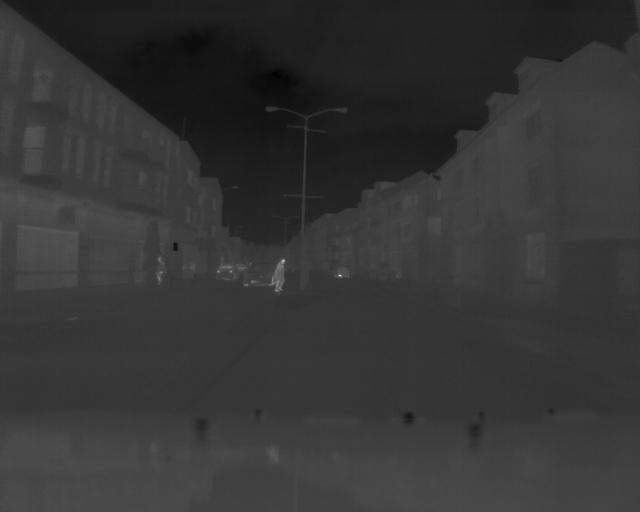car: (240, 259, 272, 289), (217, 261, 238, 283), (332, 266, 352, 281)
person: (272, 257, 291, 294), (152, 256, 168, 290)
